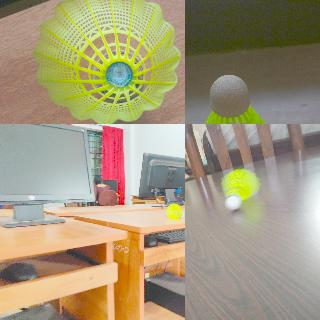shuttlecock: (33, 0, 181, 123), (191, 75, 283, 123), (221, 170, 259, 210), (166, 203, 184, 219)
